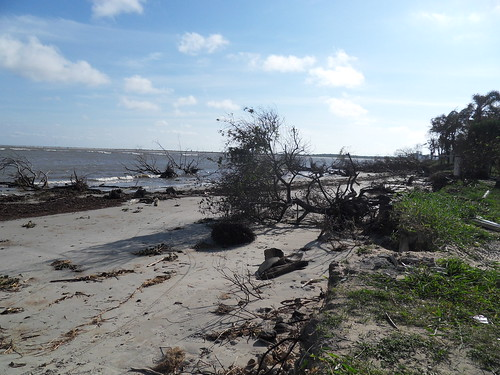beach: (1, 182, 342, 375)
sea: (1, 145, 346, 181)
sky: (1, 1, 483, 140)
tree: (216, 112, 404, 241)
